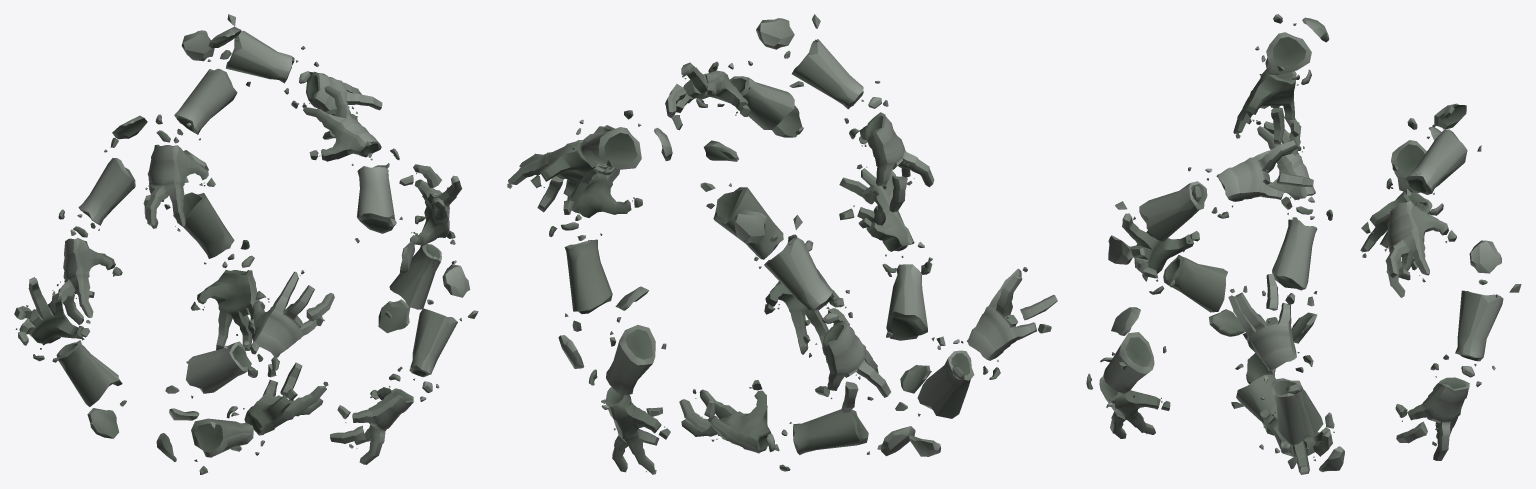
Rendered from handRef.fbx.
The picture shows the model from 3 angles, left to right: view 1: azimuth 30°, elevation 25°; view 2: azimuth 150°, elevation 25°; view 3: azimuth 270°, elevation 25°; orthographic projection. The views are drawn at different scales.
Visible parts, largest first — view 1: HandBreakMesh2, HandBreakMesh7, HandBreakMesh9, HandBreakMesh6, HandBreakMesh1, HandBreakMesh5, HandBreakMesh8, HandBreakMesh4, HandBreakMesh3, HandBreakMesh10; view 2: HandBreakMesh5, HandBreakMesh7, HandBreakMesh3, HandBreakMesh6, HandBreakMesh2, HandBreakMesh1, HandBreakMesh10, HandBreakMesh8, HandBreakMesh4, HandBreakMesh9; view 3: HandBreakMesh1, HandBreakMesh8, HandBreakMesh4, HandBreakMesh10, HandBreakMesh2, HandBreakMesh6, HandBreakMesh7, HandBreakMesh9, HandBreakMesh3, HandBreakMesh5.
Part boxes in pixels (x1=…): HandBreakMesh2: x1=165, y1=270, x2=334, y2=420; HandBreakMesh7: x1=143, y1=26, x2=250, y2=231; HandBreakMesh9: x1=330, y1=264, x2=478, y2=464; HandBreakMesh6: x1=14, y1=277, x2=126, y2=438; HandBreakMesh1: x1=164, y1=150, x2=259, y2=354; HandBreakMesh5: x1=56, y1=115, x2=147, y2=324; HandBreakMesh8: x1=378, y1=164, x2=462, y2=333; HandBreakMesh4: x1=302, y1=85, x2=414, y2=273; HandBreakMesh3: x1=156, y1=362, x2=328, y2=474; HandBreakMesh10: x1=181, y1=14, x2=382, y2=139; HandBreakMesh5: x1=735, y1=209, x2=890, y2=412; HandBreakMesh7: x1=756, y1=14, x2=934, y2=212; HandBreakMesh3: x1=679, y1=380, x2=915, y2=471; HandBreakMesh6: x1=895, y1=267, x2=1057, y2=456; HandBreakMesh2: x1=839, y1=164, x2=945, y2=393; HandBreakMesh1: x1=588, y1=286, x2=670, y2=474; HandBreakMesh10: x1=507, y1=110, x2=672, y2=214; HandBreakMesh8: x1=549, y1=126, x2=642, y2=368; HandBreakMesh4: x1=665, y1=60, x2=803, y2=137; HandBreakMesh9: x1=700, y1=140, x2=849, y2=357; HandBreakMesh1: x1=1395, y1=240, x2=1521, y2=460; HandBreakMesh8: x1=1228, y1=274, x2=1344, y2=471; HandBreakMesh4: x1=1108, y1=140, x2=1313, y2=264; HandBreakMesh10: x1=1384, y1=103, x2=1481, y2=297; HandBreakMesh2: x1=1122, y1=213, x2=1247, y2=336; HandBreakMesh6: x1=1256, y1=114, x2=1332, y2=343; HandBreakMesh7: x1=1233, y1=14, x2=1329, y2=144; HandBreakMesh9: x1=1086, y1=307, x2=1170, y2=438; HandBreakMesh3: x1=1231, y1=353, x2=1334, y2=474; HandBreakMesh5: x1=1360, y1=118, x2=1443, y2=278.
Bounding box in the file's own units: 297 × 263 × 239.
